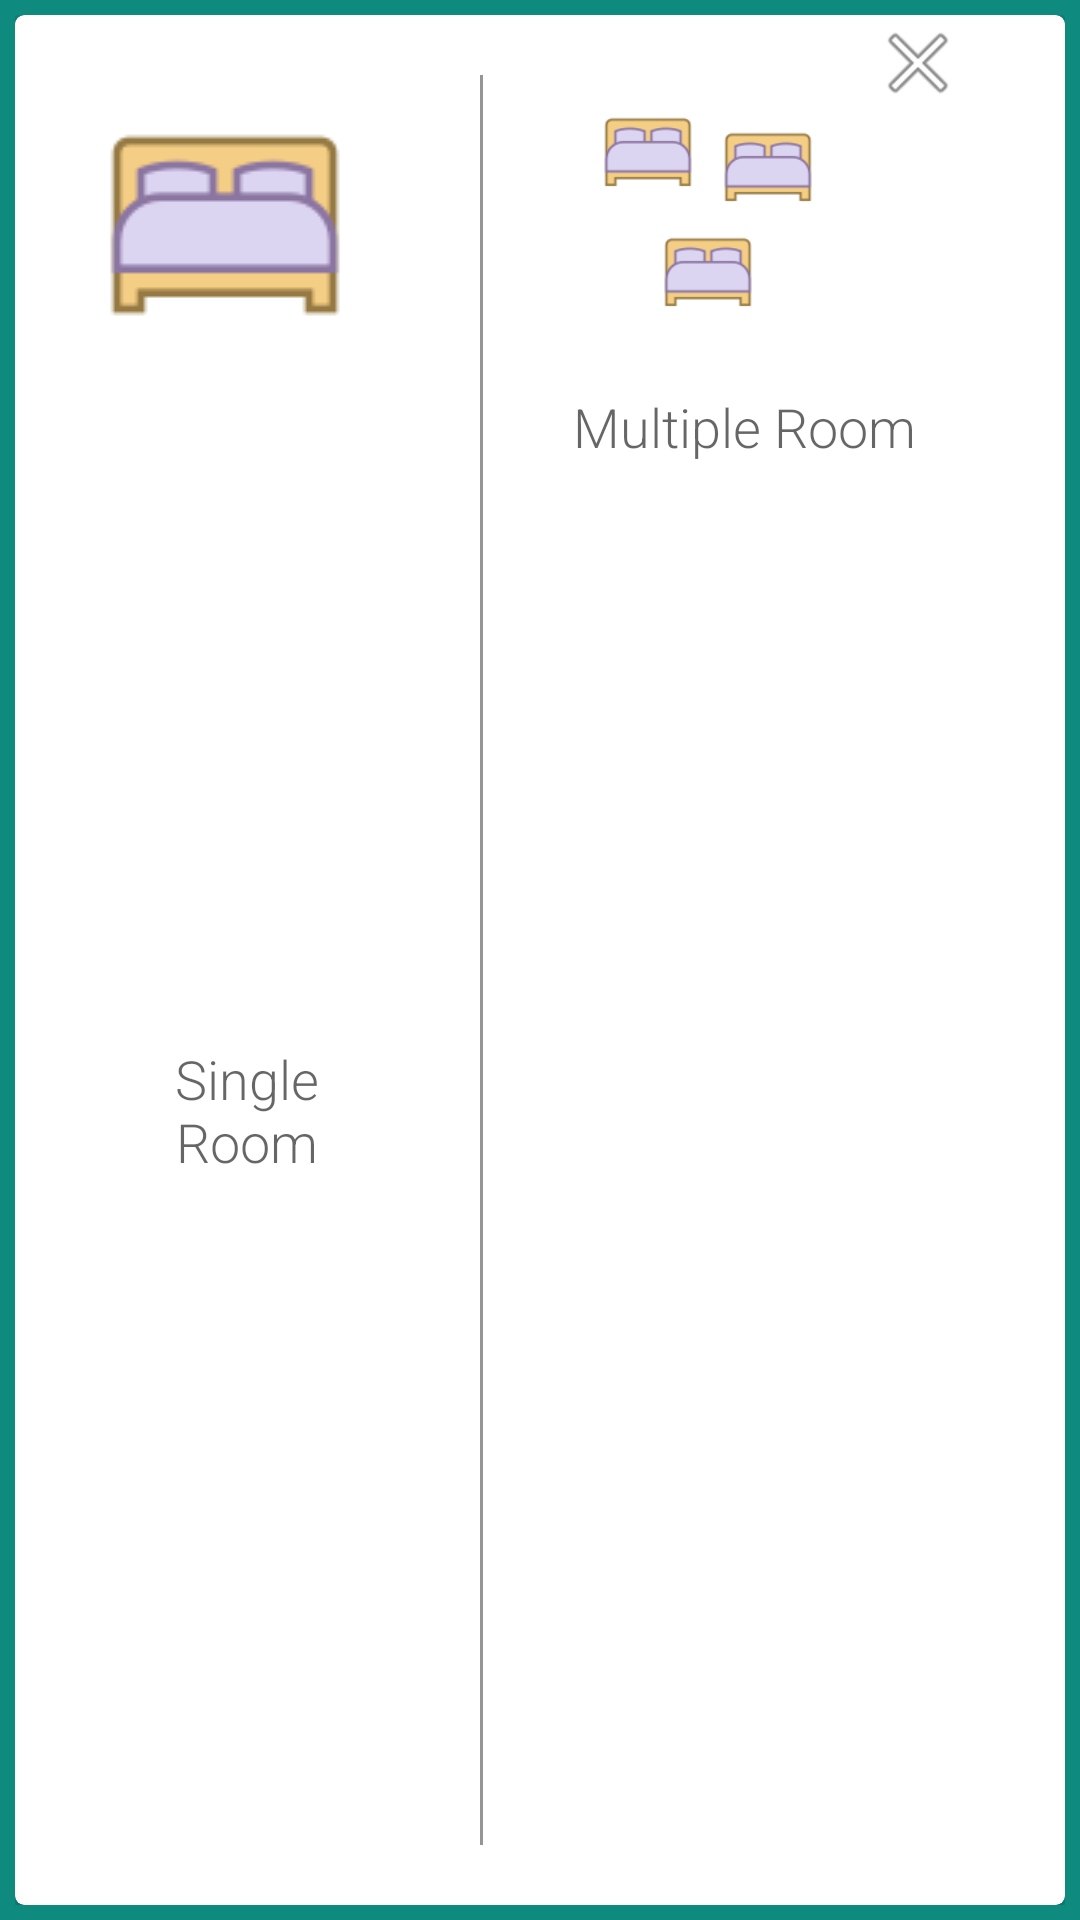

Icons on this 1080x1920 Android screen, each with its box as (x1, y1, x2, y2):
bed: (604, 118, 692, 186), (724, 133, 812, 201), (110, 135, 340, 315), (664, 238, 752, 306)
close clear cancel: (888, 33, 948, 93)
